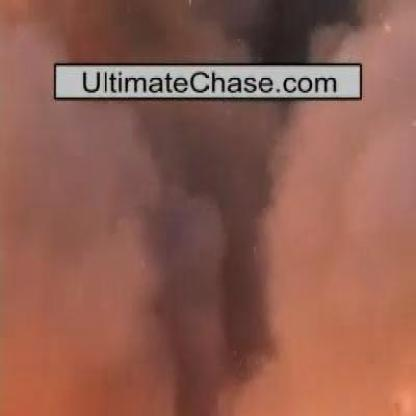-: (13, 104, 400, 366), (37, 0, 349, 62)
